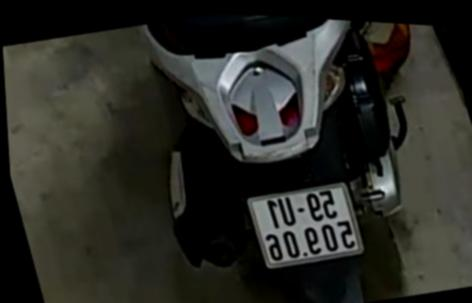License_Plate: (244, 171, 370, 277)
